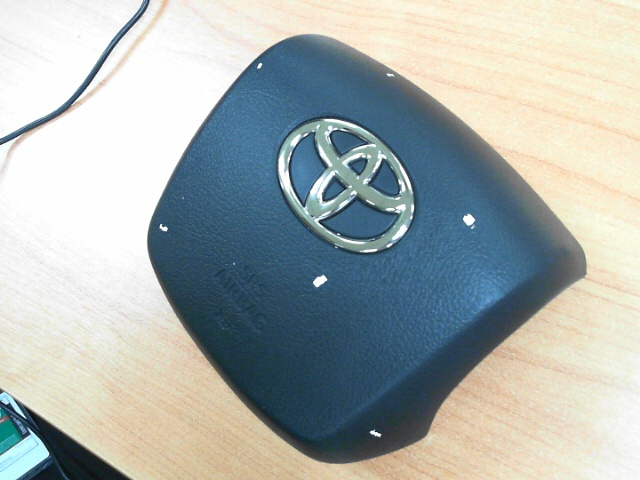Airbag: (462, 212, 479, 234), (312, 274, 328, 289), (368, 429, 382, 438), (159, 224, 169, 232), (256, 62, 264, 71), (386, 73, 395, 78)
